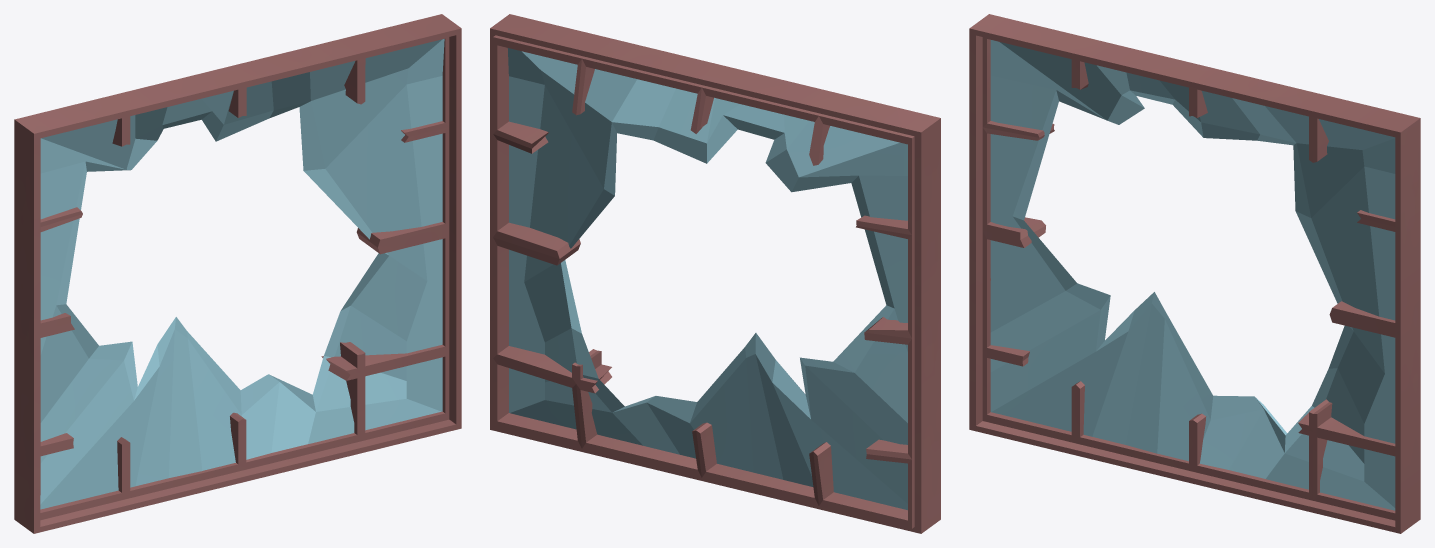
The model's file is window_2.glb.
3 views of the same model, side by side, from view 1: azimuth 30°, elevation 25°; view 2: azimuth 150°, elevation 25°; view 3: azimuth 330°, elevation 25° (orthographic).
Visible parts, largest first — view 1: window_panel_2.001, window_bars_2.001; view 2: window_panel_2.001, window_bars_2.001; view 3: window_panel_2.001, window_bars_2.001.
Boxes of the visible parts, bbox=[...] form: window_panel_2.001: bbox=[40, 39, 444, 509]; window_bars_2.001: bbox=[14, 14, 461, 533]; window_panel_2.001: bbox=[507, 48, 907, 510]; window_bars_2.001: bbox=[490, 14, 940, 533]; window_panel_2.001: bbox=[990, 40, 1395, 510]; window_bars_2.001: bbox=[969, 14, 1420, 533].
Size of the model in its own units: 2.1 by 1.87 by 0.2498.
Materials: 1 (1 with a texture image).
